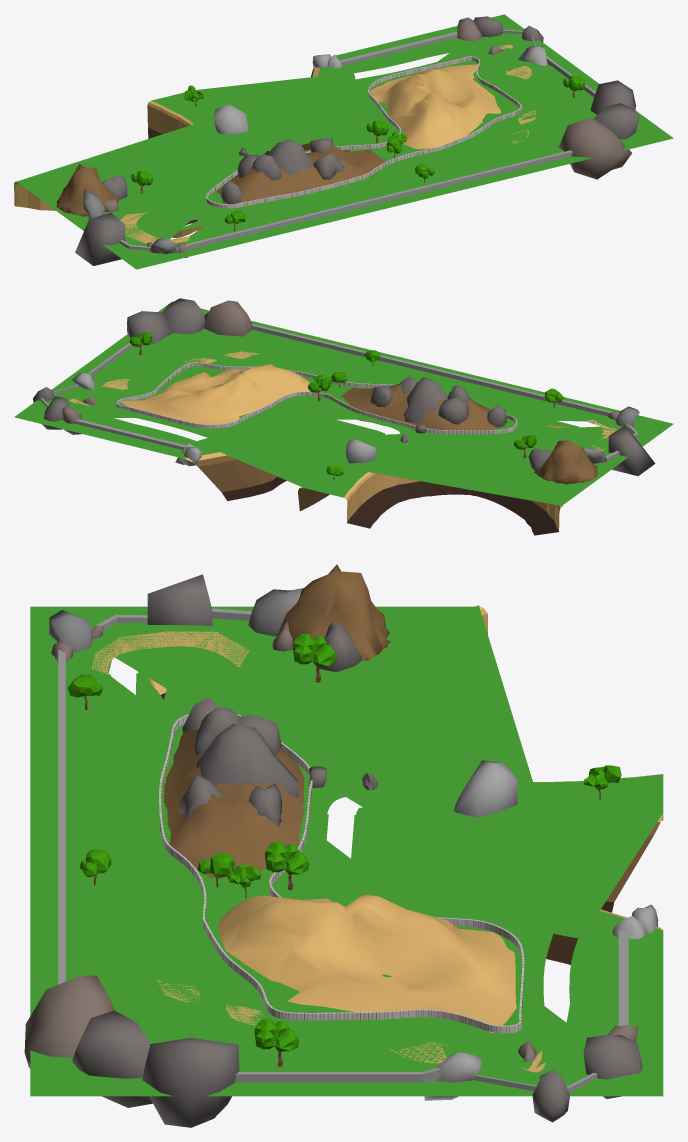
File: ImoraLikeCoursse_background_rechanged.fbx
3 views of the same model, one above another, from view 1: azimuth 30°, elevation 25°; view 2: azimuth 150°, elevation 25°; view 3: azimuth 270°, elevation 25° (orthographic). The views are drawn at different scales.
Visible parts, largest first — view 1: Landscape.068; view 2: Landscape.068; view 3: Landscape.068.
Boxes of the visible parts, left/top/right/bottom form: Landscape.068: left=14, top=14, right=673, bottom=269; Landscape.068: left=14, top=298, right=673, bottom=535; Landscape.068: left=24, top=564, right=663, bottom=1127.
Bounding box in the file's own units: 1155 × 171 × 612.
